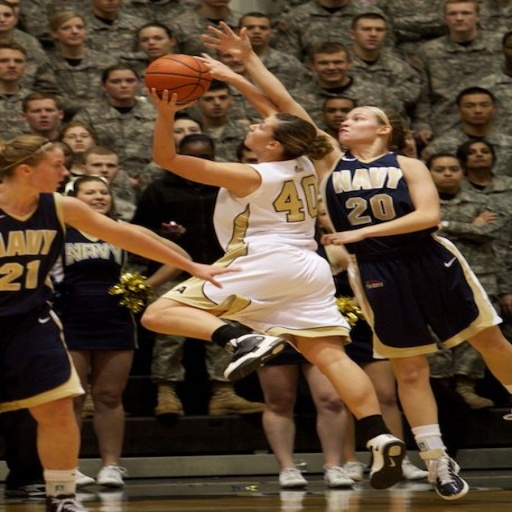hand: (205, 23, 263, 60), (144, 86, 198, 116), (190, 50, 237, 80), (192, 260, 240, 288), (157, 221, 187, 238), (468, 211, 498, 227)
